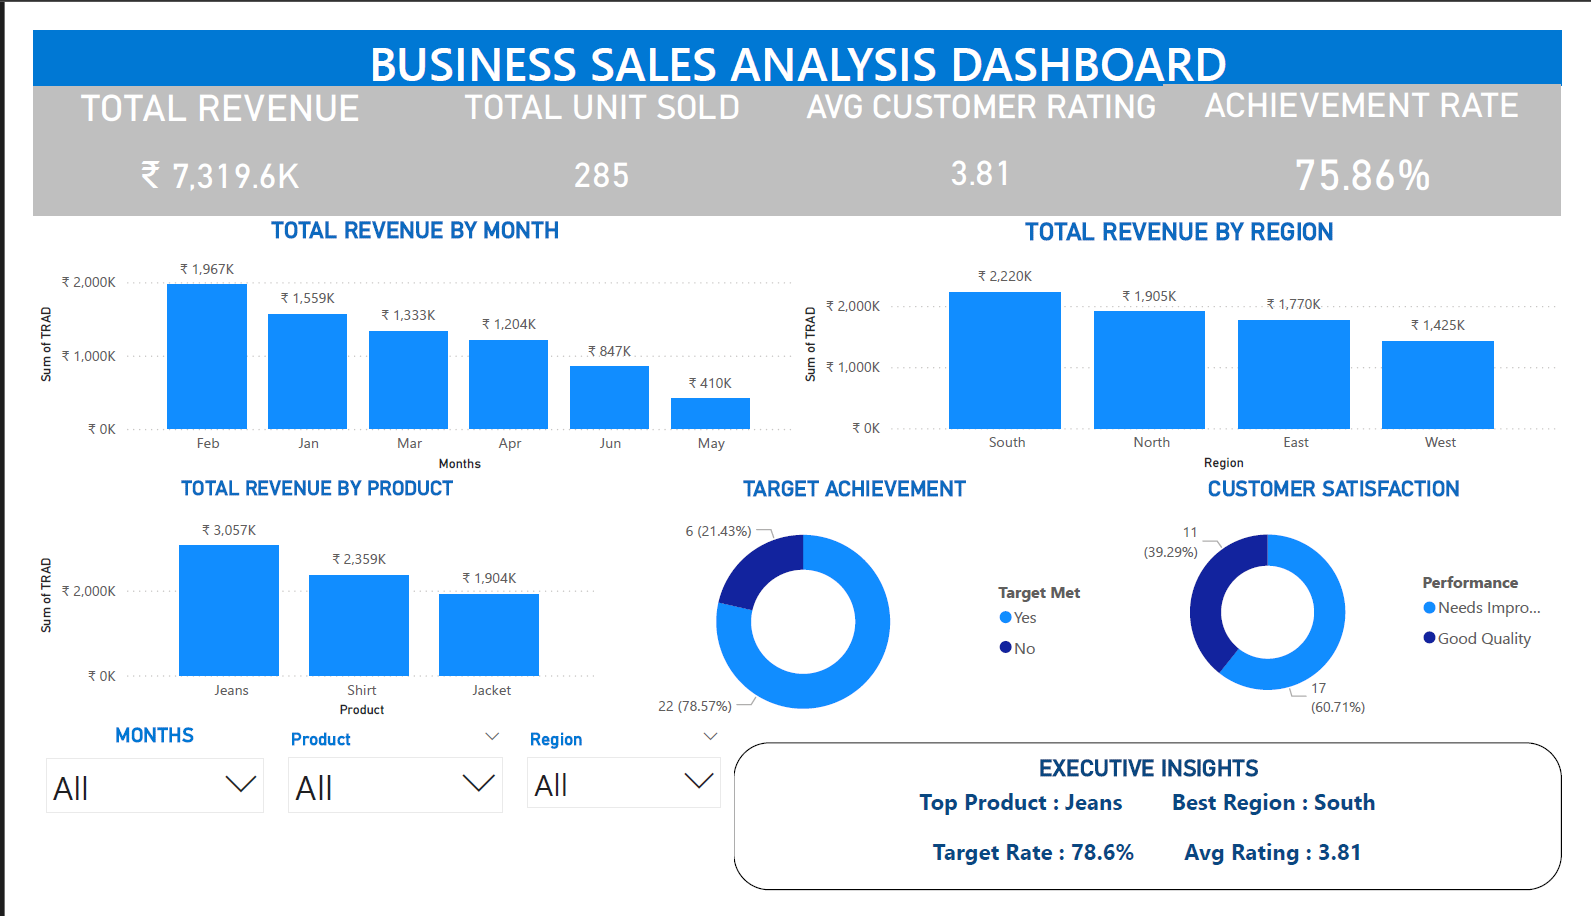

The dashboard page shown, as its layout file describes it:
{"tool":"powerbi","page":{"name":"Page 1","canvas":[1280,720],"ordinal":0},"visuals":[{"type":"textbox","title":"BUSINESS SALES ANALYSIS DASHBOARD","box":[0,0,1280,46.4],"z":0},{"type":"card","title":"TOTAL REVENUE ","fields":{"Values":["Sum(sales.TRAD)"]},"box":[0,46.7,311.7,110],"z":1000},{"type":"card","title":"TOTAL UNIT SOLD ","fields":{"Values":["Sum(sales.Units Sold)"]},"box":[311.7,46.7,328.3,110],"z":2000},{"type":"card","title":"AVG CUSTOMER RATING","fields":{"Values":["Avg(sales.Customer Rating)"]},"box":[640,46.7,306.7,110],"z":3000},{"type":"card","title":"ACHIEVEMENT RATE ","fields":{"Values":["sales.Achievement Rate"]},"box":[946.5,45.2,332.6,111.3],"z":4000},{"type":"columnChart","title":"TOTAL REVENUE BY MONTH ","fields":{"Category":["sales.Months"],"Y":["Sum(sales.TRAD)"]},"box":[0,155.7,640,217.1],"z":5000},{"type":"columnChart","title":"TOTAL REVENUE BY REGION","fields":{"Category":["sales.Region"],"Y":["Sum(sales.TRAD)"]},"box":[640,155.7,640,217.1],"z":6000},{"type":"columnChart","title":"TOTAL REVENUE BY PRODUCT","fields":{"Y":["Sum(sales.TRAD)"],"Category":["sales.Product"]},"box":[0,372.9,475.7,207.1],"z":7000},{"type":"donutChart","title":"TARGET ACHIEVEMENT","fields":{"Category":["sales.Target Met"],"Y":["CountNonNull(sales.Target Met)"]},"box":[475.7,372.9,422.9,222.9],"z":8000},{"type":"donutChart","title":"CUSTOMER SATISFACTION","fields":{"Category":["sales.Performance"],"Y":["CountNonNull(sales.Performance)"]},"box":[898.6,372.9,381.4,207.1],"z":9000},{"type":"textbox","title":"EXECUTIVE  INSIGHTS","box":[585.7,595.7,694.3,124.3],"z":10000},{"type":"slicer","title":"MONTHS","fields":{"Values":["sales.Months"]},"box":[0,580,202.9,140],"z":11000},{"type":"slicer","fields":{"Values":["sales.Product"]},"box":[202.9,580,200,140],"z":12000},{"type":"slicer","fields":{"Values":["sales.Region"]},"box":[402.9,580,182.9,140],"z":13000}]}

Visuals, with their boxes in screenshot pixels (x1, y1, x2, y2), scaled from the page's 1280x720 canvas onto the 1591x916 screenshot:
"BUSINESS SALES ANALYSIS DASHBOARD" textbox: crop(0, 0, 1590, 59)
"TOTAL REVENUE " card: crop(0, 59, 387, 199)
"TOTAL UNIT SOLD " card: crop(387, 59, 796, 199)
"AVG CUSTOMER RATING" card: crop(796, 59, 1177, 199)
"ACHIEVEMENT RATE " card: crop(1176, 58, 1590, 199)
"TOTAL REVENUE BY MONTH " columnChart: crop(0, 198, 796, 474)
"TOTAL REVENUE BY REGION" columnChart: crop(796, 198, 1590, 474)
"TOTAL REVENUE BY PRODUCT" columnChart: crop(0, 474, 591, 738)
"TARGET ACHIEVEMENT" donutChart: crop(591, 474, 1117, 758)
"CUSTOMER SATISFACTION" donutChart: crop(1117, 474, 1590, 738)
"EXECUTIVE  INSIGHTS" textbox: crop(728, 758, 1590, 915)
"MONTHS" slicer: crop(0, 738, 252, 915)
slicer - sales.Product: crop(252, 738, 501, 915)
slicer - sales.Region: crop(501, 738, 728, 915)
